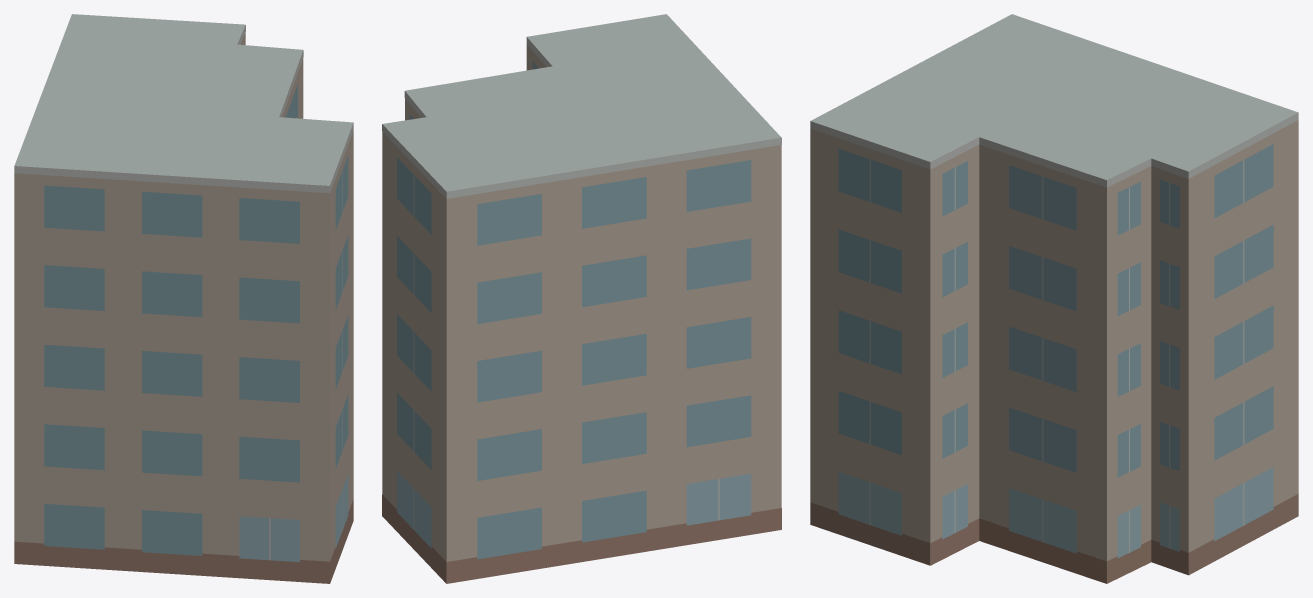
The model's file is survey-upis-32951476.glb.
3 views of the same model, side by side, from view 1: azimuth 30°, elevation 25°; view 2: azimuth 150°, elevation 25°; view 3: azimuth 270°, elevation 25° (orthographic). The views are drawn at different scales.
Visible parts, largest first — view 1: survey-upis-32951476.tmp; view 2: survey-upis-32951476.tmp; view 3: survey-upis-32951476.tmp.
Boxes of the visible parts, box(x1,y1,x2,y2) form: survey-upis-32951476.tmp: box(14, 14, 353, 583); survey-upis-32951476.tmp: box(382, 14, 781, 583); survey-upis-32951476.tmp: box(810, 14, 1298, 583).
Size of the model in its own units: 11.82 by 13.38 by 14.67.
